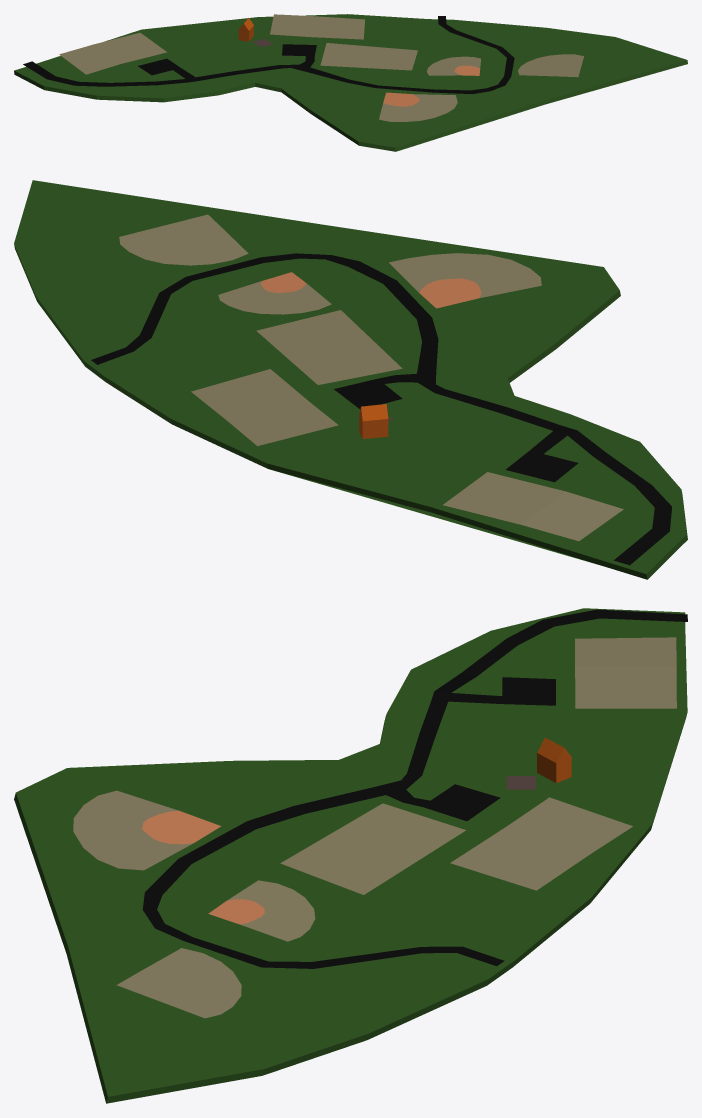
Rendered from broadneckparkbg.glb.
3 renders of one model, top to bottom at view 1: azimuth 30°, elevation 25°; view 2: azimuth 150°, elevation 25°; view 3: azimuth 270°, elevation 25°, orthographic. The views are drawn at different scales.
Parts seen in each view (by area): view 1: BroadneckPark.001; view 2: BroadneckPark.001; view 3: BroadneckPark.001.
Part boxes in pixels (<box>): BroadneckPark.001: <box>14,14,687,151</box>; BroadneckPark.001: <box>14,180,687,579</box>; BroadneckPark.001: <box>14,608,687,1103</box>.
Size of the model in its own units: 1.08 by 0.0727 by 0.6441.
